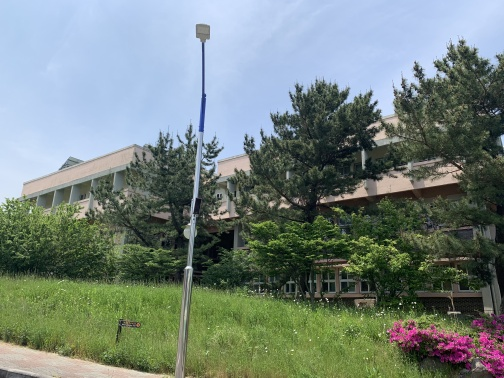College Of Education: (17, 95, 504, 319)
